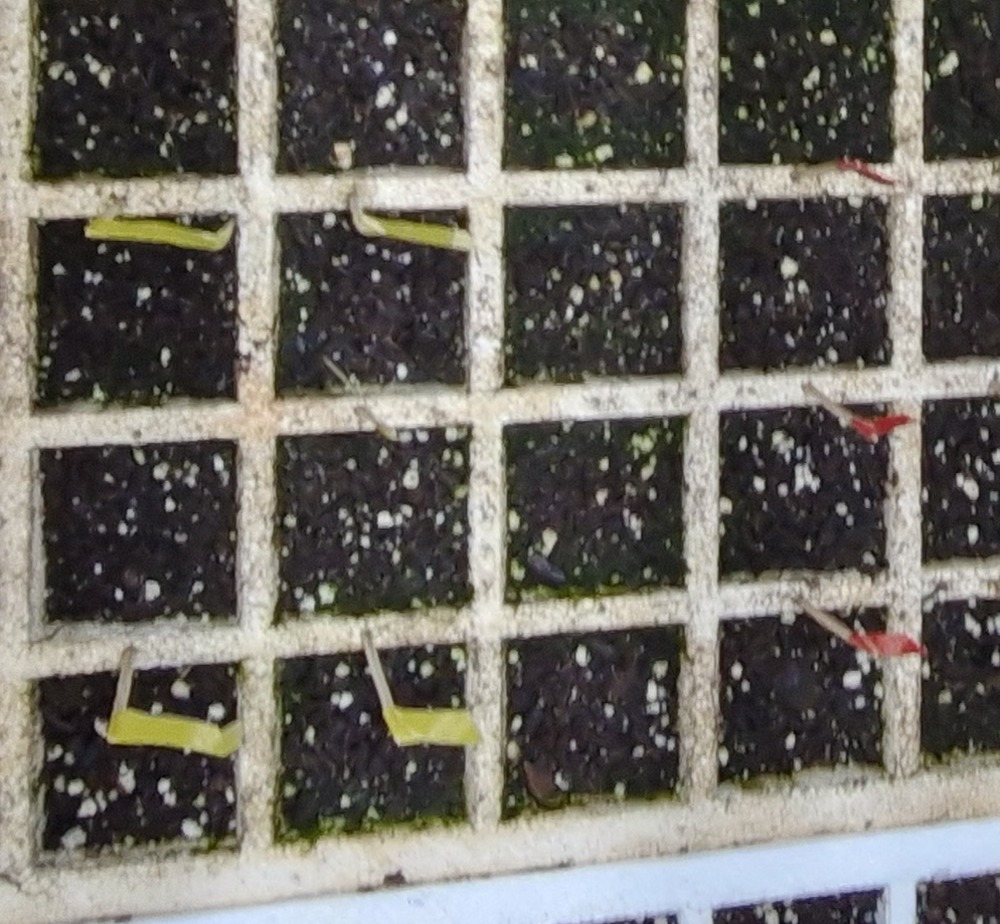Folha: (536, 389, 556, 401), (524, 381, 539, 395)
Germinacao: (522, 381, 555, 401)
